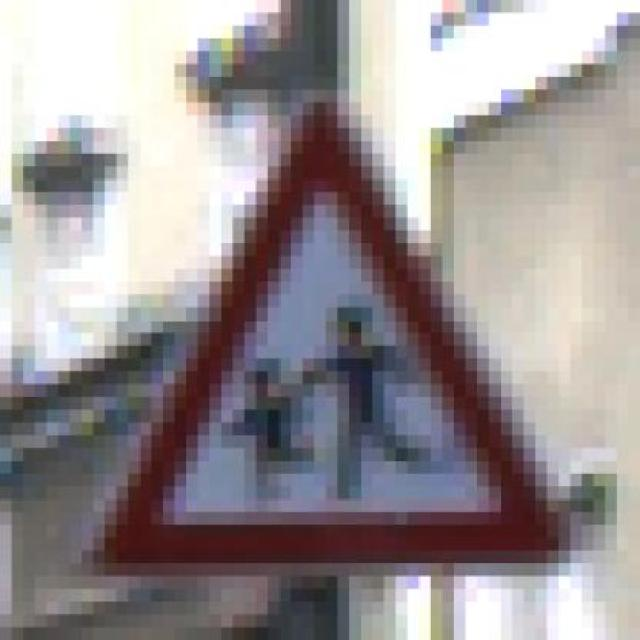Beware of children: (58, 90, 570, 576)
